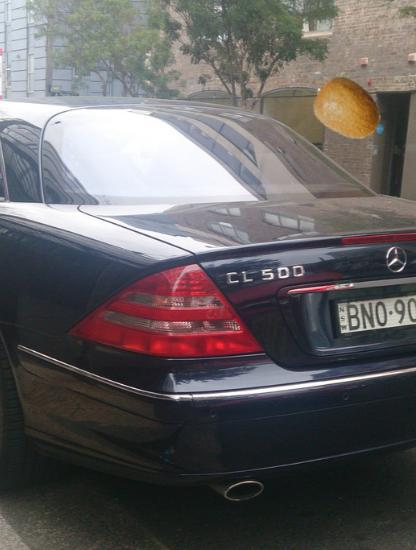Kiwi: (312, 74, 383, 145)
